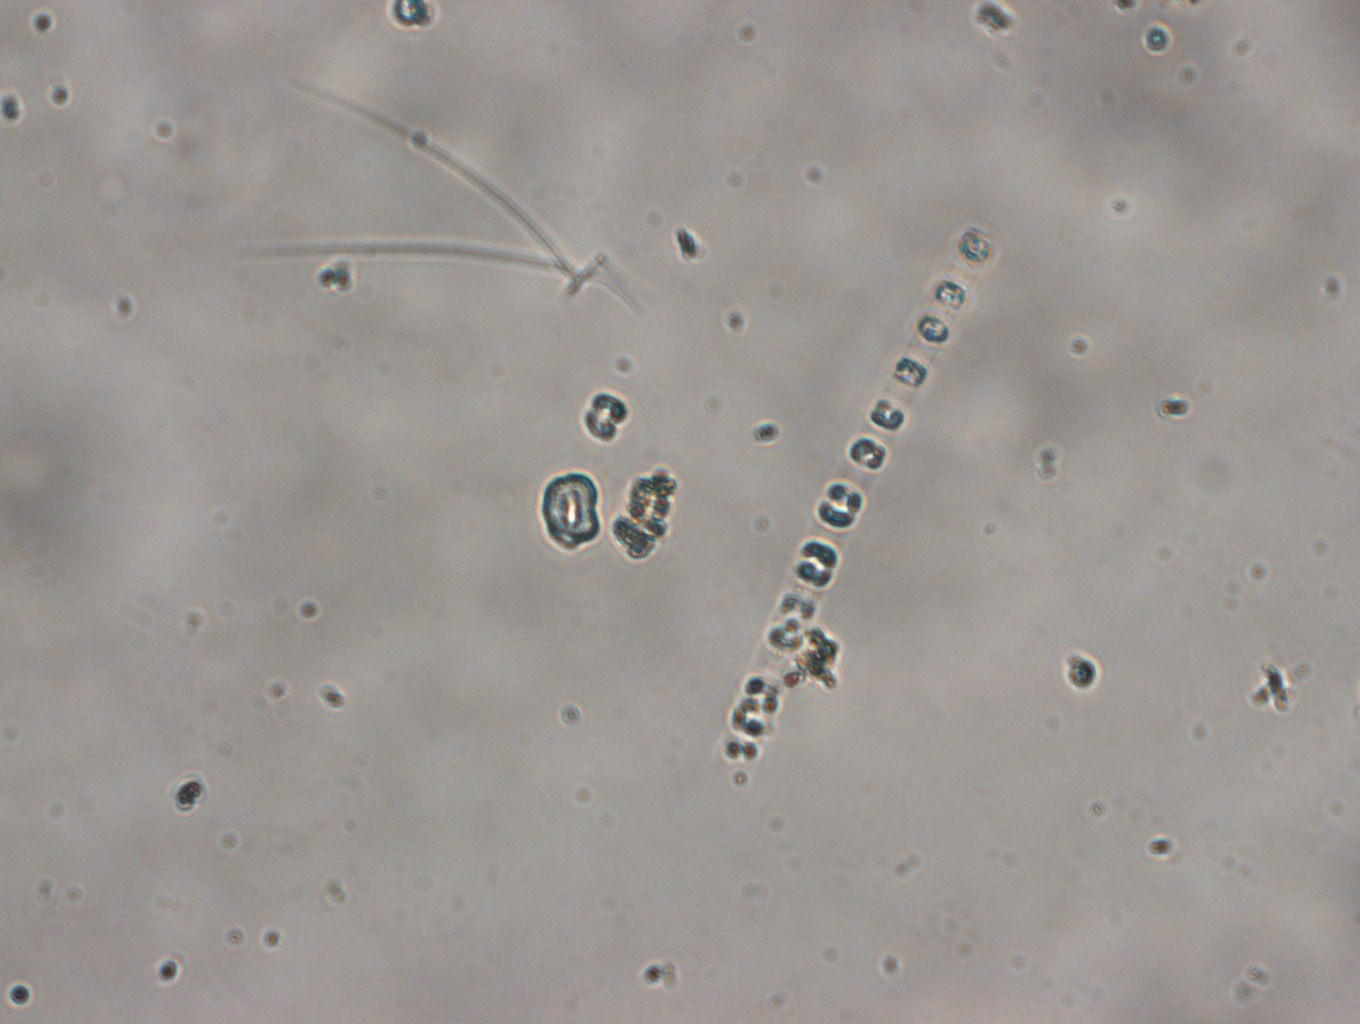chaetoceros: (274, 68, 652, 315)
skeletonema: (725, 212, 1011, 771)
